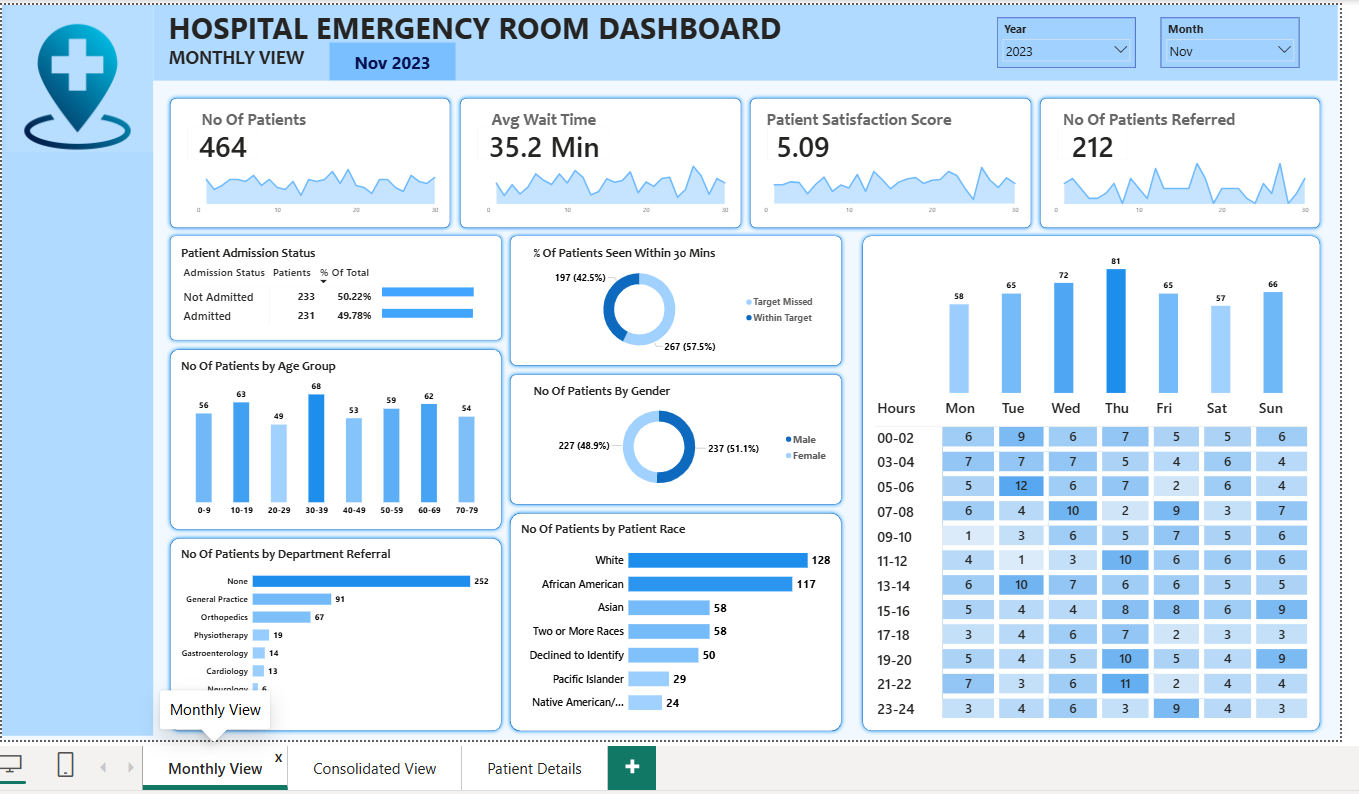

This screenshot's page, from the dashboard's own definition file:
{"tool":"powerbi","page":{"name":"Monthly View","canvas":[2550,1400],"ordinal":0},"visuals":[{"type":"textbox","box":[10,0,280,280],"z":0},{"type":"shape","box":[0,0,288,1392],"z":1000},{"type":"shape","box":[288,0,2256,144],"z":2000},{"type":"textbox","box":[312,0,1248,96],"z":3000},{"type":"textbox","box":[312,72,312,72],"z":4000},{"type":"slicer","fields":{"Values":["Date Table.Year"]},"box":[1896,24,264,96],"z":5000},{"type":"slicer","fields":{"Values":["Date Table.Month"]},"box":[2208,24,264,96],"z":6000},{"type":"shape","box":[312,168,550,264],"z":7000},{"type":"cardVisual","fields":{"Data":["Hospital ER_Data.No Of Patients"]},"box":[336,216,168,96],"z":8000},{"type":"textbox","box":[336,192,288,72],"z":9000},{"type":"areaChart","fields":{"Category":["Date Table.Date.Variation.Date Hierarchy.Day"],"Y":["Hospital ER_Data.No Of Patients"]},"box":[360,288,480,120],"z":10000},{"type":"cardVisual","fields":{"Data":["Min(Date Table.Month & Year)"]},"box":[624,72,240,72],"z":11000},{"type":"shape","box":[864,168,552,264],"z":12000},{"type":"cardVisual","fields":{"Data":["Hospital ER_Data.Avg Wait Time"]},"box":[888,216,288,96],"z":13000},{"type":"textbox","box":[888,192,288,72],"z":14000},{"type":"areaChart","fields":{"Category":["Date Table.Date.Variation.Date Hierarchy.Day"],"Y":["Avg(Hospital ER_Data.Patient Waittime)"]},"box":[912,288,480,120],"z":15000},{"type":"shape","box":[1416,168,552,264],"z":16000},{"type":"cardVisual","fields":{"Data":["Hospital ER_Data.Satisfaction Score"]},"box":[1440,216,168,96],"z":17000},{"type":"textbox","box":[1440,192,384,72],"z":18000},{"type":"areaChart","fields":{"Category":["Date Table.Date.Variation.Date Hierarchy.Day"],"Y":["Hospital ER_Data.Satisfaction Score"]},"box":[1440,288,504,120],"z":19000},{"type":"shape","box":[1968,168,550,264],"z":20000},{"type":"cardVisual","fields":{"Data":["Hospital ER_Data.No of Patient Referred"]},"box":[1992,216,168,96],"z":21000},{"type":"textbox","box":[1968,192,432,72],"z":22000},{"type":"areaChart","fields":{"Category":["Date Table.Date.Variation.Date Hierarchy.Day"],"Y":["Hospital ER_Data.No of Patient Referred"]},"box":[1992,288,504,120],"z":23000},{"type":"shape","box":[312,432,648,216],"z":24000},{"type":"pivotTable","title":"Patient Admission Status","fields":{"Rows":["Hospital ER_Data.Admission Status"],"Values":["Hospital ER_Data.No Of Patients1","Hospital ER_Data.No Of Patients"]},"box":[336,456,576,168],"z":25000},{"type":"barChart","fields":{"Y":["Hospital ER_Data.No Of Patients"],"Category":["Hospital ER_Data.Admission Status"]},"box":[720,504,216,120],"z":26000},{"type":"shape","box":[312,648,648,360],"z":27000},{"type":"clusteredColumnChart","fields":{"Category":["Hospital ER_Data.Age Group"],"Y":["Hospital ER_Data.No Of Patients"]},"box":[336,672,600,312],"z":28000},{"type":"shape","box":[312,1008,648,384],"z":29000},{"type":"clusteredBarChart","fields":{"Category":["Hospital ER_Data.Department Referral"],"Y":["Hospital ER_Data.No Of Patients"]},"box":[336,1032,600,336],"z":30000},{"type":"shape","box":[960,432,648,264],"z":31000},{"type":"donutChart","title":"% Of Patients Seen Within 30 Mins","fields":{"Category":["Hospital ER_Data.Waittime Status"],"Y":["Hospital ER_Data.No Of Patients"]},"box":[1008,456,552,216],"z":32000},{"type":"shape","box":[960,696,648,264],"z":33000},{"type":"donutChart","title":"No Of Patients By Gender","fields":{"Y":["Hospital ER_Data.No Of Patients"],"Category":["Hospital ER_Data.Patient Gender"]},"box":[1008,720,576,216],"z":34000},{"type":"shape","box":[960,960,648,432],"z":35000},{"type":"clusteredBarChart","fields":{"Y":["Hospital ER_Data.No Of Patients"],"Category":["Hospital ER_Data.Patient Race"]},"box":[984,984,600,384],"z":36000},{"type":"shape","box":[1632,432,888,960],"z":37000},{"type":"pivotTable","fields":{"Rows":["Hospital ER_Data.Waittime Interval"],"Columns":["Date Table.Day Name"],"Values":["Hospital ER_Data.No Of Patients"]},"box":[1656,744,840,624],"z":38000},{"type":"columnChart","title":"No Of Patients by Day And Hour","fields":{"Category":["Date Table.Day Name"],"Y":["Hospital ER_Data.No Of Patients"]},"box":[1800,456,648,288],"z":39000},{"type":"image","box":[24,24,240,264],"z":40000},{"type":"pageNavigator","box":[24,432,240,552],"z":41000},{"type":"textbox","box":[0,1248,288,120],"z":42000}]}

Visuals, with their boxes on the page's 2550x1400 design canvas (x1, y1, x2, y2). These are canvas units, not pixel positions in the 1359x794 screenshot, which may show the page scaled, cropped or inside an application window:
textbox: box=[10, 0, 290, 280]
shape: box=[0, 0, 288, 1392]
shape: box=[288, 0, 2544, 144]
textbox: box=[312, 0, 1560, 96]
textbox: box=[312, 72, 624, 144]
slicer - Date Table.Year: box=[1896, 24, 2160, 120]
slicer - Date Table.Month: box=[2208, 24, 2472, 120]
shape: box=[312, 168, 862, 432]
cardVisual - Hospital ER_Data.No Of Patients: box=[336, 216, 504, 312]
textbox: box=[336, 192, 624, 264]
areaChart - Date Table.Date.Variation.Date Hierarchy.Day x Hospital ER_Data.No Of Patients: box=[360, 288, 840, 408]
cardVisual - Min(Date Table.Month & Year): box=[624, 72, 864, 144]
shape: box=[864, 168, 1416, 432]
cardVisual - Hospital ER_Data.Avg Wait Time: box=[888, 216, 1176, 312]
textbox: box=[888, 192, 1176, 264]
areaChart - Date Table.Date.Variation.Date Hierarchy.Day x Avg(Hospital ER_Data.Patient Waittime): box=[912, 288, 1392, 408]
shape: box=[1416, 168, 1968, 432]
cardVisual - Hospital ER_Data.Satisfaction Score: box=[1440, 216, 1608, 312]
textbox: box=[1440, 192, 1824, 264]
areaChart - Date Table.Date.Variation.Date Hierarchy.Day x Hospital ER_Data.Satisfaction Score: box=[1440, 288, 1944, 408]
shape: box=[1968, 168, 2518, 432]
cardVisual - Hospital ER_Data.No of Patient Referred: box=[1992, 216, 2160, 312]
textbox: box=[1968, 192, 2400, 264]
areaChart - Date Table.Date.Variation.Date Hierarchy.Day x Hospital ER_Data.No of Patient Referred: box=[1992, 288, 2496, 408]
shape: box=[312, 432, 960, 648]
"Patient Admission Status" pivotTable: box=[336, 456, 912, 624]
barChart - Hospital ER_Data.No Of Patients x Hospital ER_Data.Admission Status: box=[720, 504, 936, 624]
shape: box=[312, 648, 960, 1008]
clusteredColumnChart - Hospital ER_Data.Age Group x Hospital ER_Data.No Of Patients: box=[336, 672, 936, 984]
shape: box=[312, 1008, 960, 1392]
clusteredBarChart - Hospital ER_Data.Department Referral x Hospital ER_Data.No Of Patients: box=[336, 1032, 936, 1368]
shape: box=[960, 432, 1608, 696]
"% Of Patients Seen Within 30 Mins" donutChart: box=[1008, 456, 1560, 672]
shape: box=[960, 696, 1608, 960]
"No Of Patients By Gender" donutChart: box=[1008, 720, 1584, 936]
shape: box=[960, 960, 1608, 1392]
clusteredBarChart - Hospital ER_Data.No Of Patients x Hospital ER_Data.Patient Race: box=[984, 984, 1584, 1368]
shape: box=[1632, 432, 2520, 1392]
pivotTable - Hospital ER_Data.Waittime Interval x Date Table.Day Name: box=[1656, 744, 2496, 1368]
"No Of Patients by Day And Hour" columnChart: box=[1800, 456, 2448, 744]
image: box=[24, 24, 264, 288]
pageNavigator: box=[24, 432, 264, 984]
textbox: box=[0, 1248, 288, 1368]
